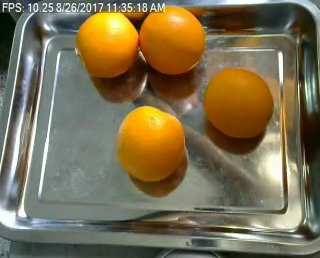Orange: (116, 105, 186, 183), (204, 68, 274, 140), (138, 5, 206, 74), (74, 11, 139, 77)
